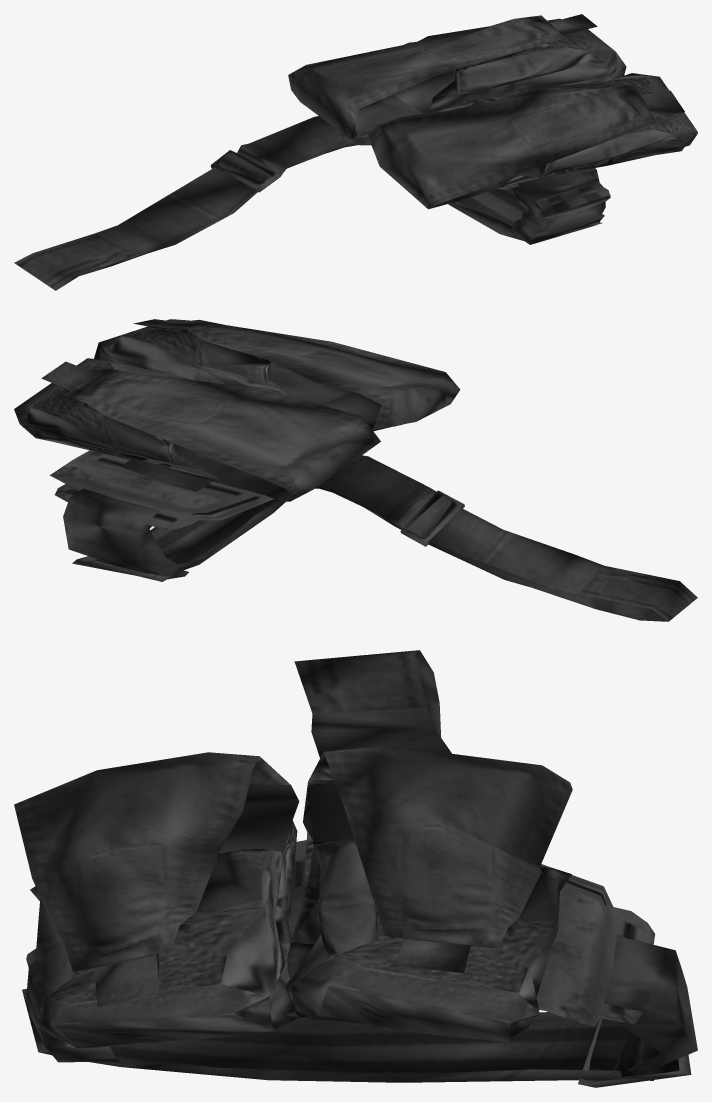
File: TaskForceDropLeg_Ground.fbx
The picture shows the model from 3 angles, top to bottom: view 1: azimuth 30°, elevation 25°; view 2: azimuth 150°, elevation 25°; view 3: azimuth 270°, elevation 25°; orthographic projection. The views are drawn at different scales.
Visible parts, largest first — view 1: Drop Leg Attachment - DONE; view 2: Drop Leg Attachment - DONE; view 3: Drop Leg Attachment - DONE.
Part boxes in pixels (box(x1,y1,x2,y2)): Drop Leg Attachment - DONE: box(14, 14, 697, 290); Drop Leg Attachment - DONE: box(14, 319, 697, 621); Drop Leg Attachment - DONE: box(14, 650, 697, 1087).
Size of the model in its own units: 0.2114 by 0.0428 by 0.1213.
